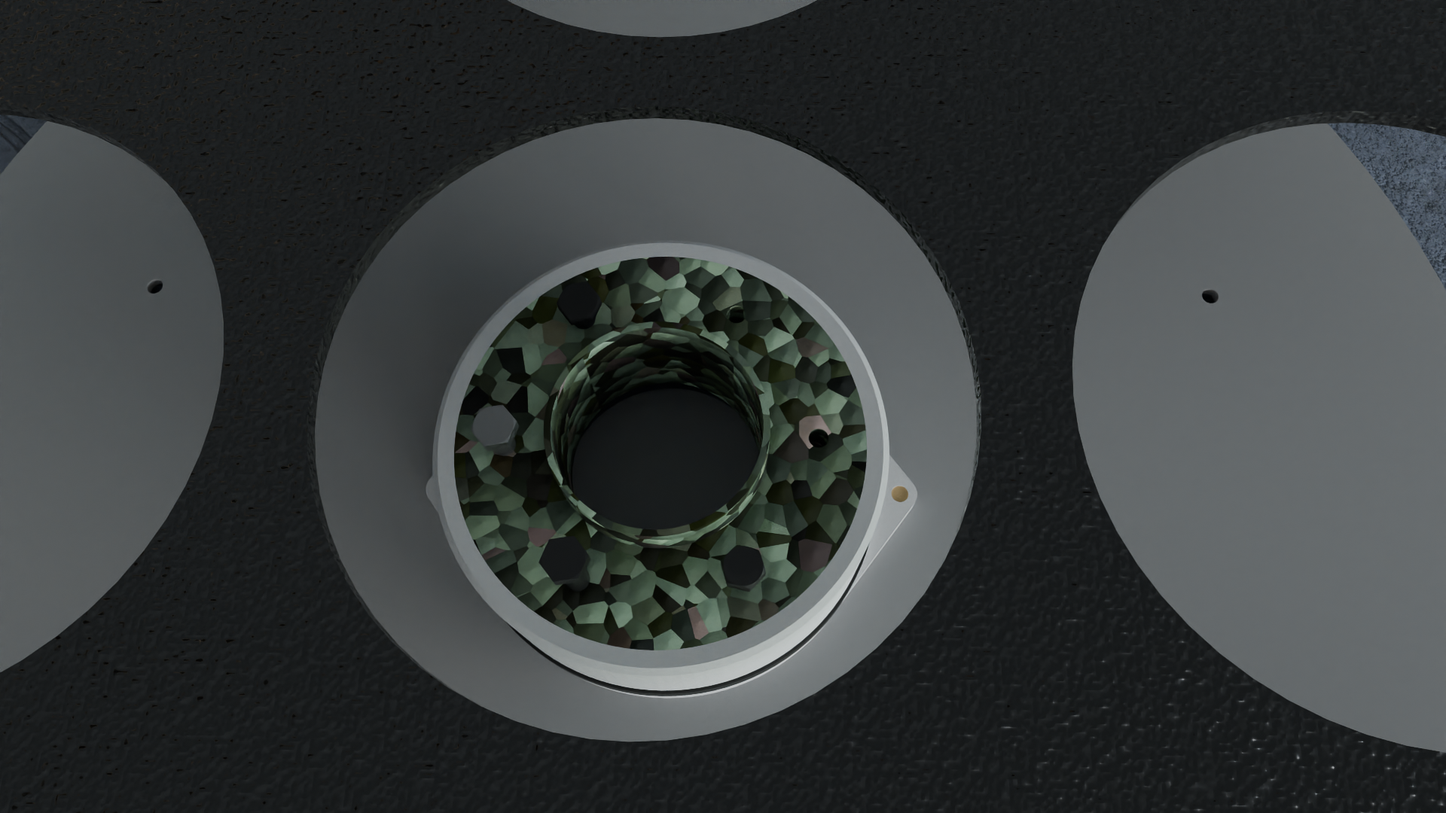bolt: (538, 536, 589, 582), (721, 545, 766, 589), (471, 405, 517, 446), (557, 282, 600, 319)
